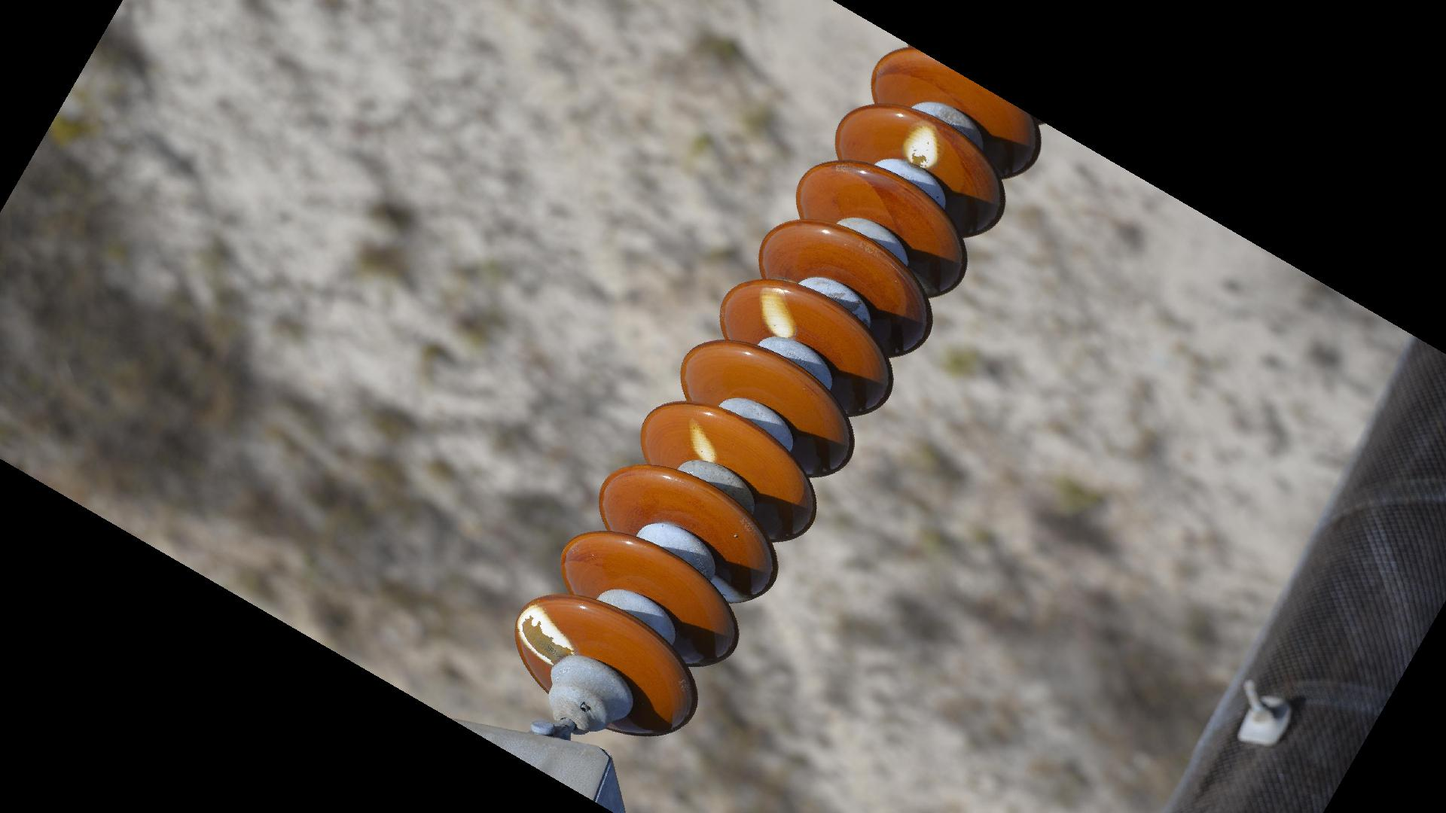insulator: (508, 44, 1046, 744)
insulator_flashover: (514, 601, 577, 668), (758, 285, 799, 341), (901, 120, 944, 172), (685, 416, 718, 465)
